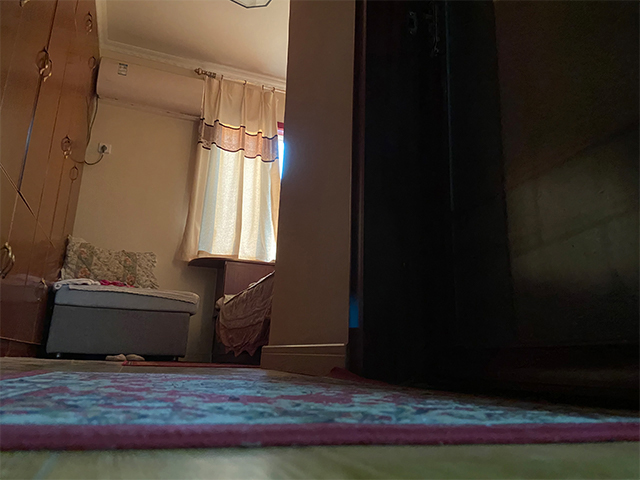bed: (212, 257, 276, 366)
cabinet: (1, 1, 98, 356)
carpet: (1, 369, 639, 452), (122, 359, 260, 369)
curtain: (184, 72, 280, 265)
stool: (45, 279, 201, 360)
